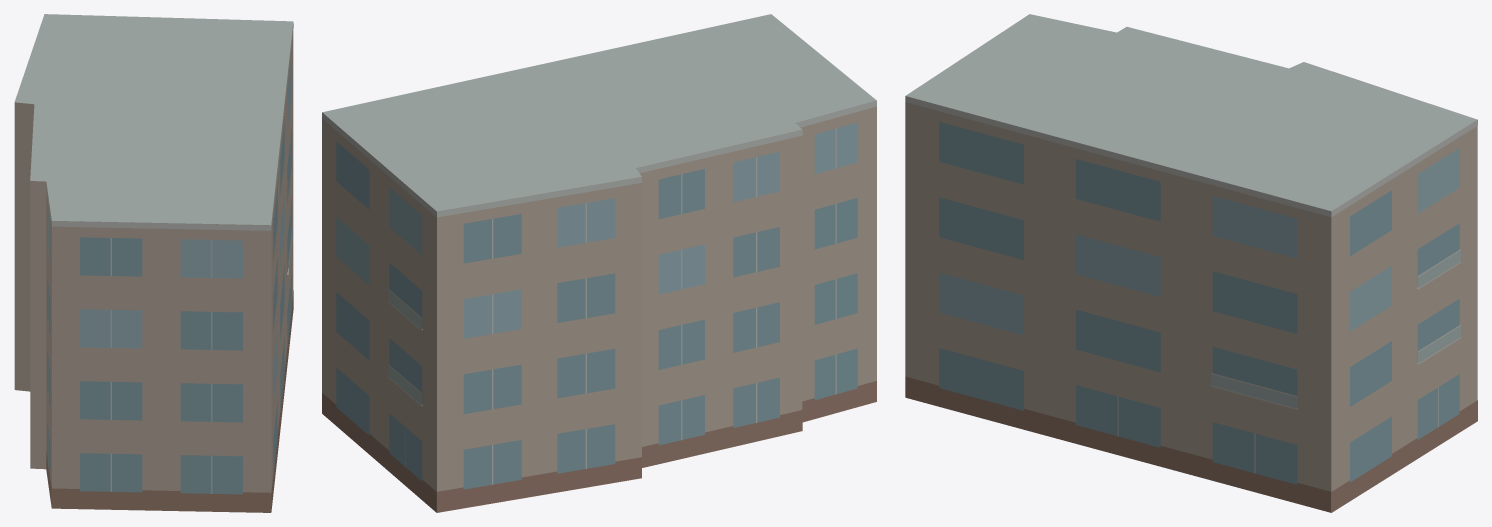
File: survey-upis-33001972.glb
3 renders of one model, left to right at view 1: azimuth 30°, elevation 25°; view 2: azimuth 150°, elevation 25°; view 3: azimuth 270°, elevation 25°, orthographic. The views are drawn at different scales.
Visible parts, largest first — view 1: survey-upis-33001972.tmp; view 2: survey-upis-33001972.tmp; view 3: survey-upis-33001972.tmp.
Boxes of the visible parts, x1=… form: survey-upis-33001972.tmp: x1=14, y1=14, x2=293, y2=512; survey-upis-33001972.tmp: x1=322, y1=14, x2=876, y2=512; survey-upis-33001972.tmp: x1=905, y1=14, x2=1477, y2=512.
Bounding box in the file's own units: 17.12 × 12.2 × 20.99.
